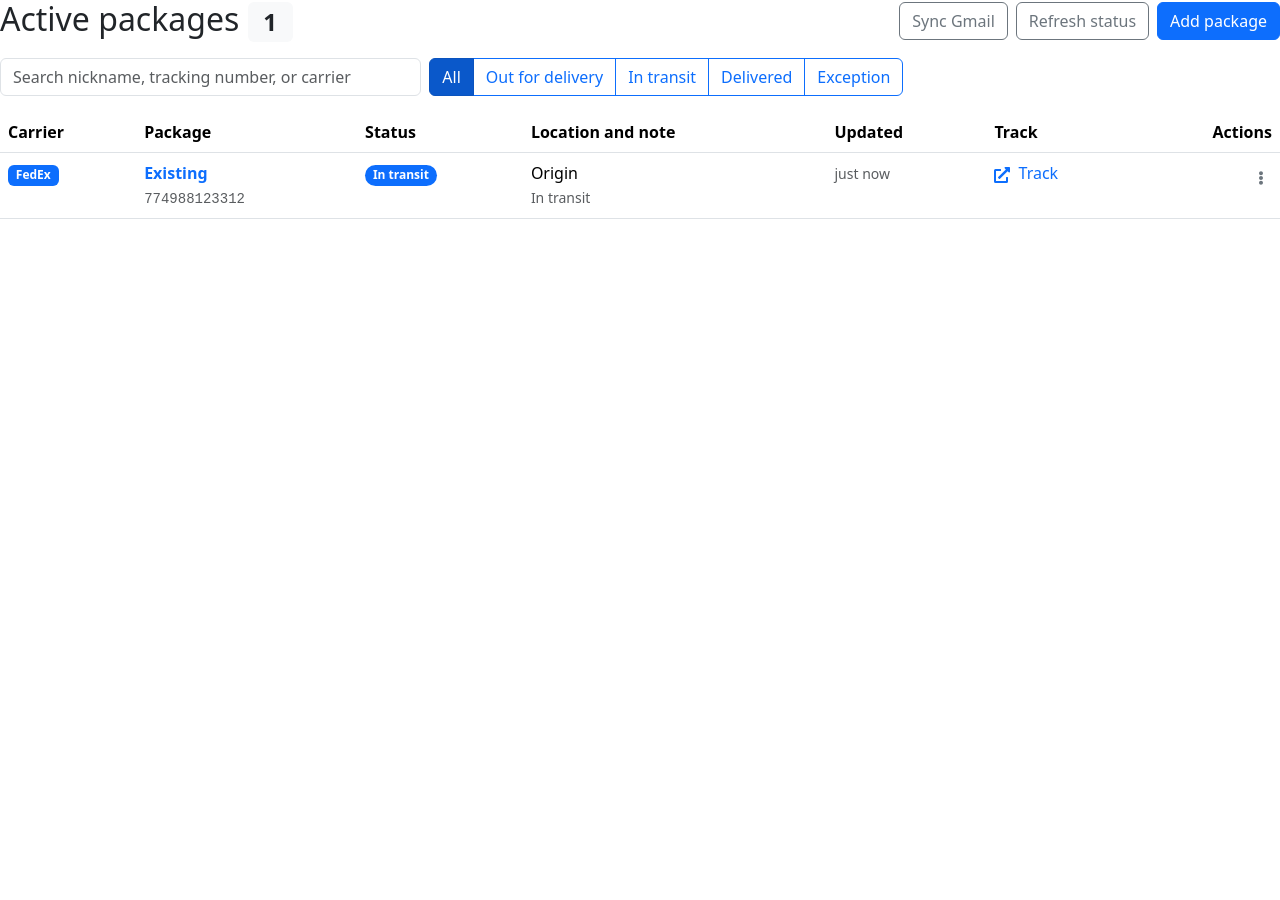
Test: DashboardPage › Add Package modal wiring › clicking the top-row Add package button opens the modal
Expected: the text "Existing" is shown, [144,162,208,184]
// Click the top-row "Add package" button (there is only one when the list is non-empty).
Click the button "Add package".
click(1218, 21)  # box [1157,2,1279,40]
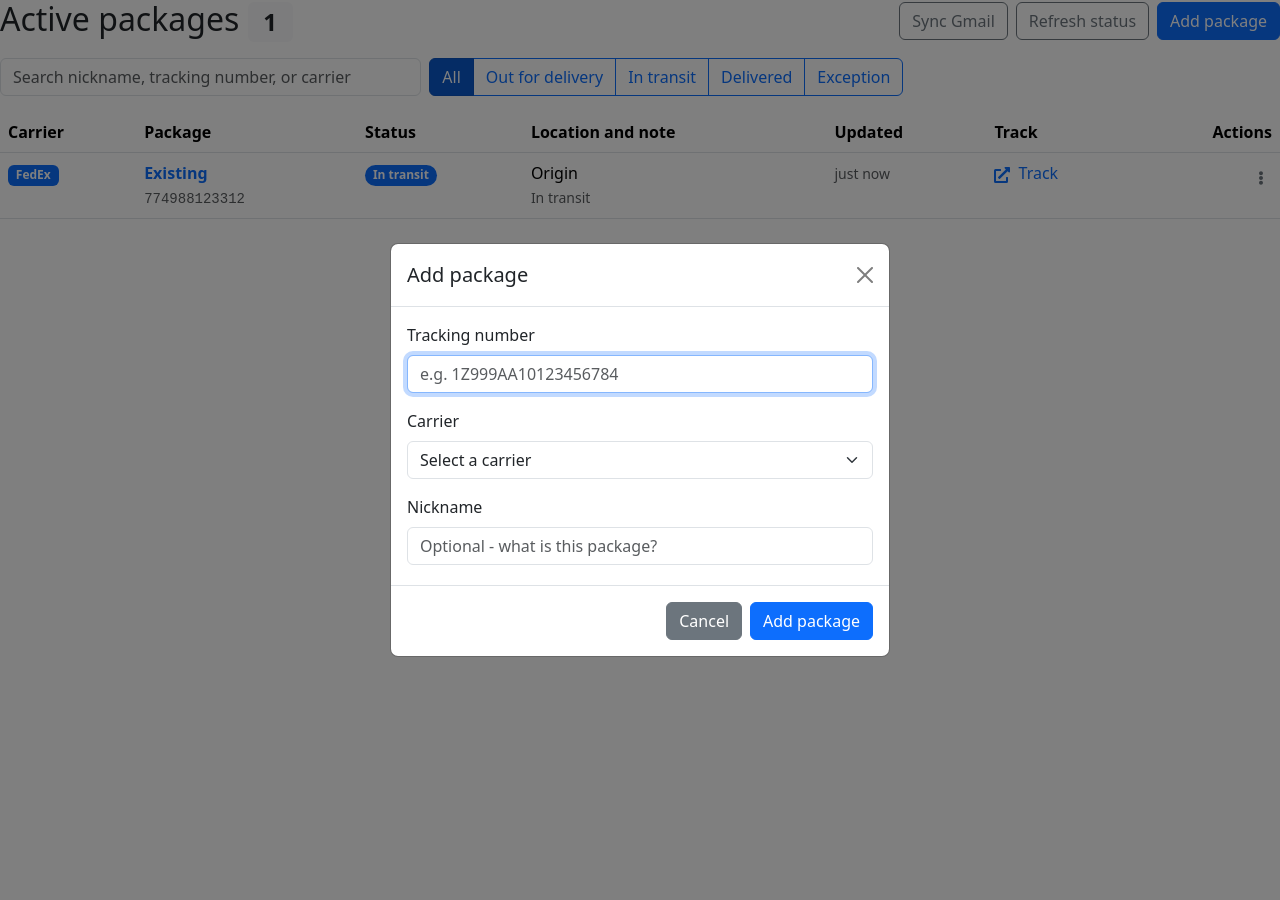
Expected: the heading "Add package" is shown, [407,260,528,290]
